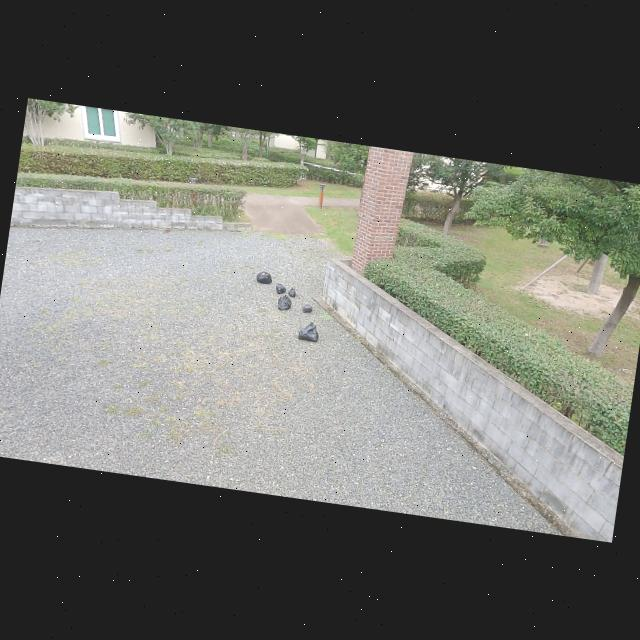trash: (297, 318, 322, 345), (275, 292, 295, 312), (254, 268, 274, 286), (274, 280, 288, 296), (300, 300, 315, 314), (287, 284, 299, 298)
